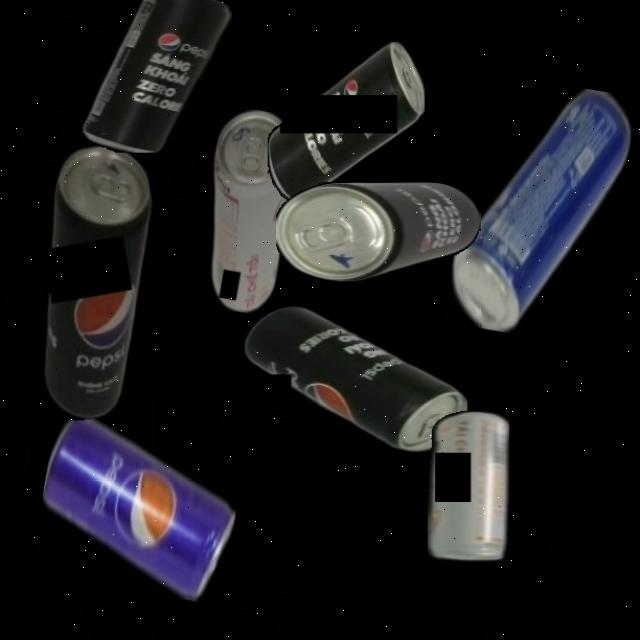debris: (442, 71, 638, 348), (6, 138, 187, 425), (29, 410, 248, 605), (245, 304, 467, 452), (266, 41, 424, 202), (188, 104, 306, 317), (83, 0, 232, 153), (276, 181, 480, 281), (427, 411, 509, 562)
